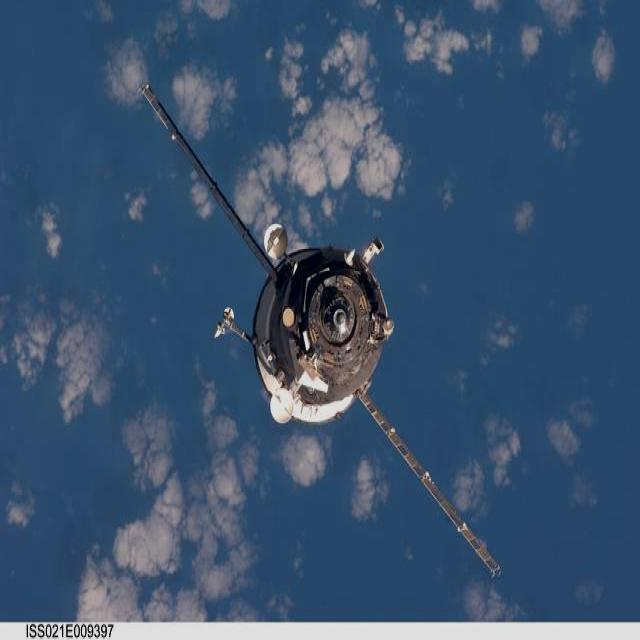medium_debris: (141, 84, 500, 576)
